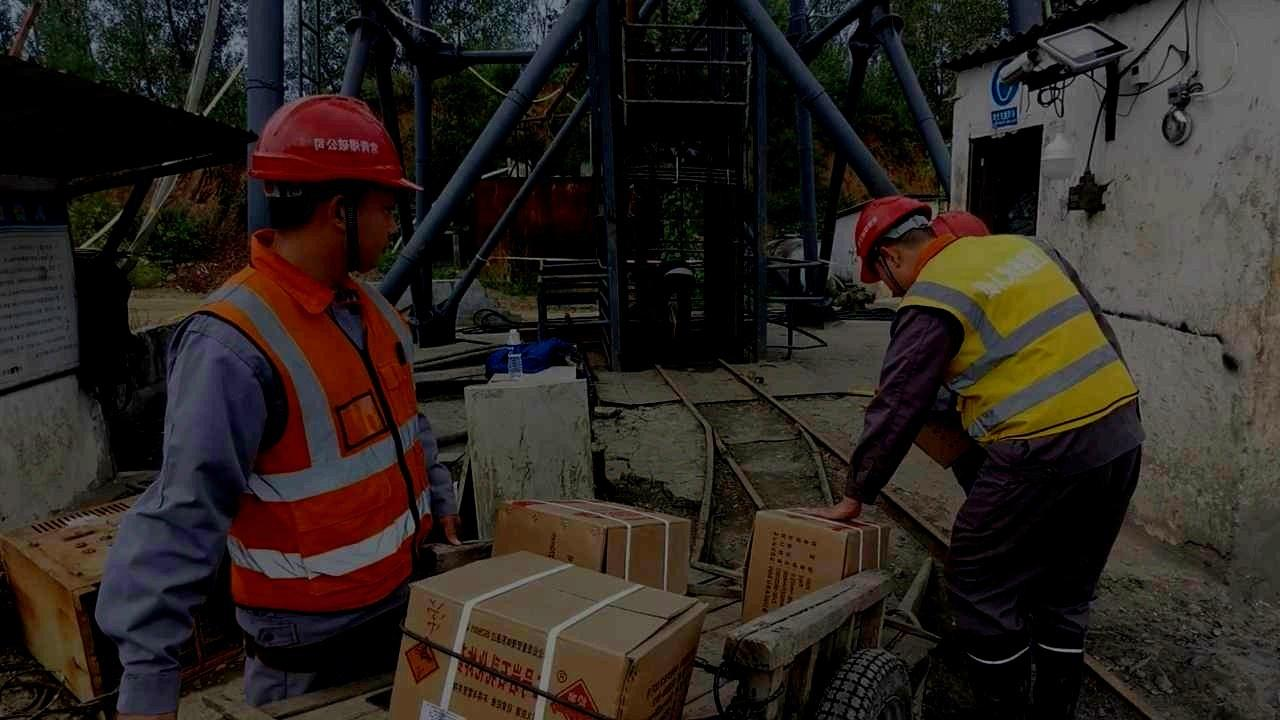helmet: (246, 93, 424, 273), (853, 194, 937, 298)
